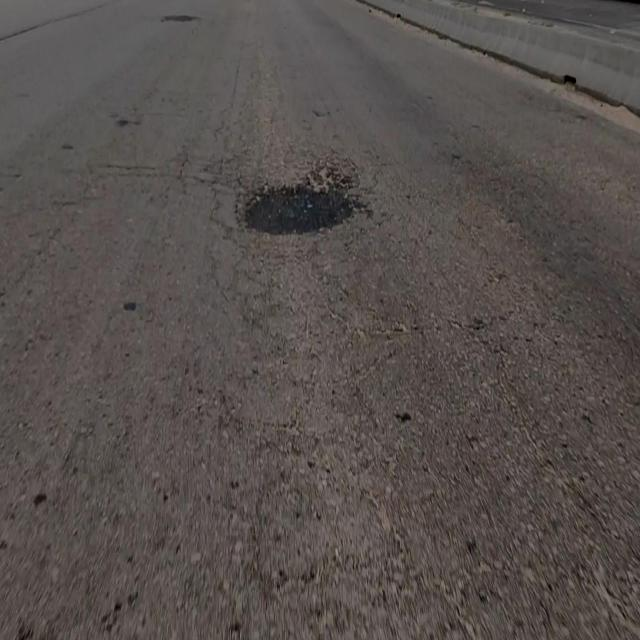Potholes: (242, 184, 359, 242)
